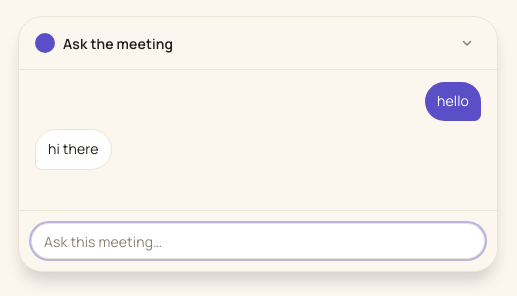
Test: ChatWindow › shrinks back into the pill before it collapses, once however often it is asked
This screenshot has width=517, height=296.
Click the button named "collapse chat" at point(467, 43), box [453,29,481,57]
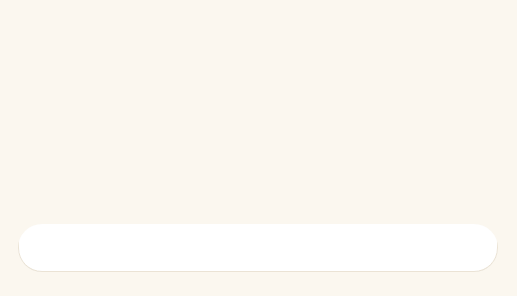
Press Escape
Expected: the element named "Ask the meeting chat" has attribute data-closing
